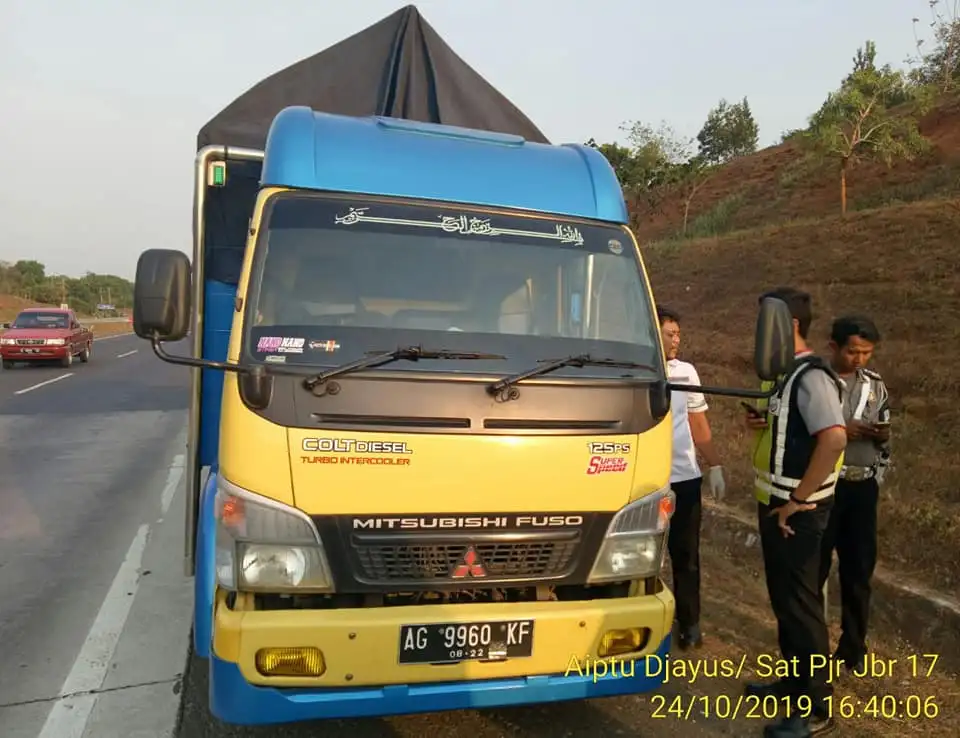plate: (397, 622, 535, 661)
